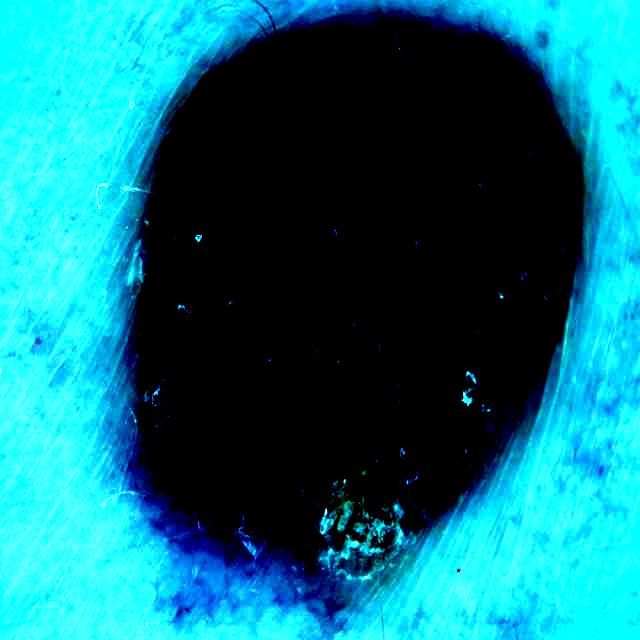BKL: (141, 18, 579, 581)
